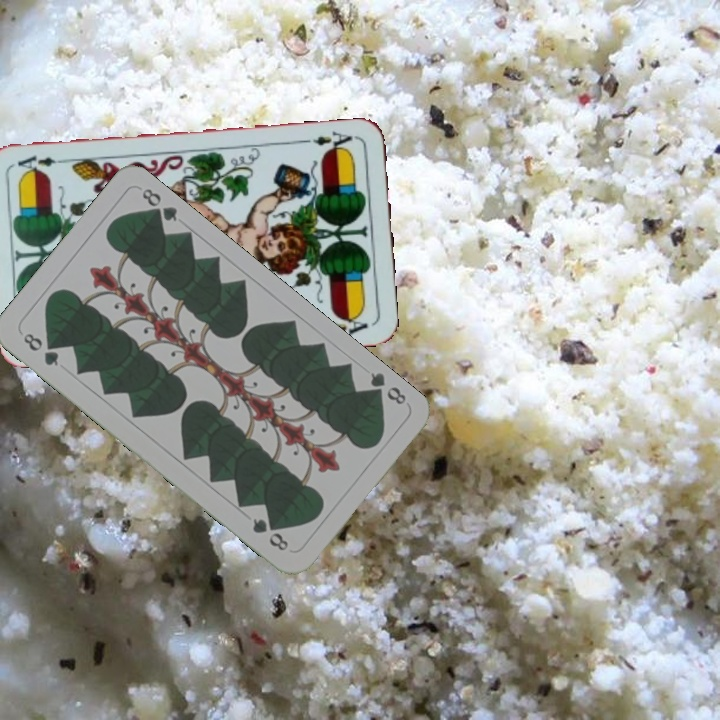EA: (301, 127, 361, 154)
G8: (363, 368, 409, 408), (19, 328, 61, 369)
